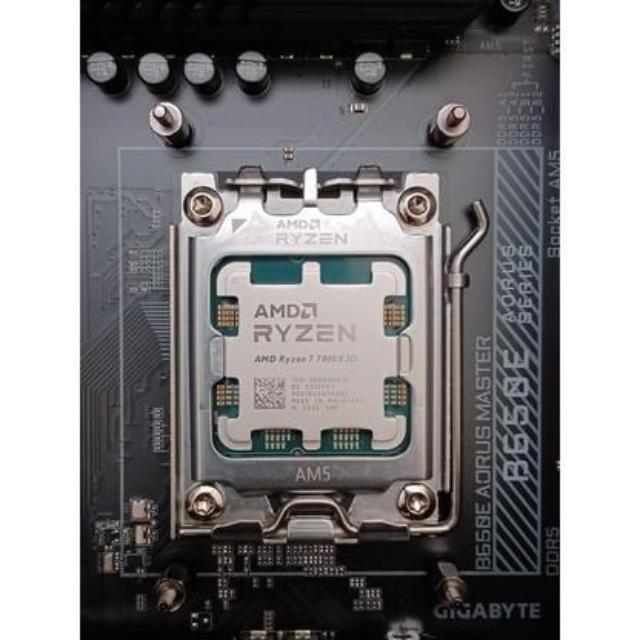CPU: (216, 256, 402, 450)
